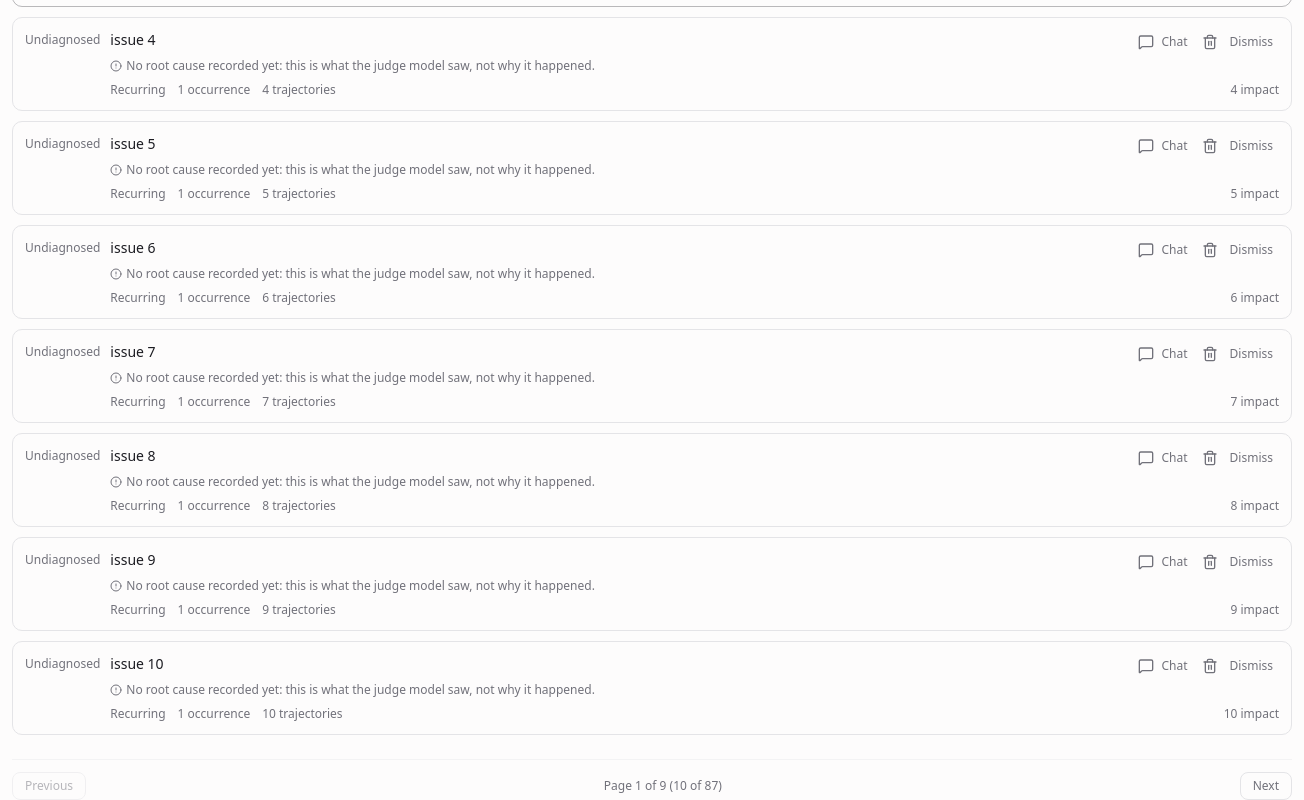
Test: the insights list's paging › keeps the way back when a page comes back empty
The width and height of the screenshot is (1304, 800).
(page scrolled)
Click the button "Next" at [1266, 786], box [1240,772,1292,799]
(page scrolled)
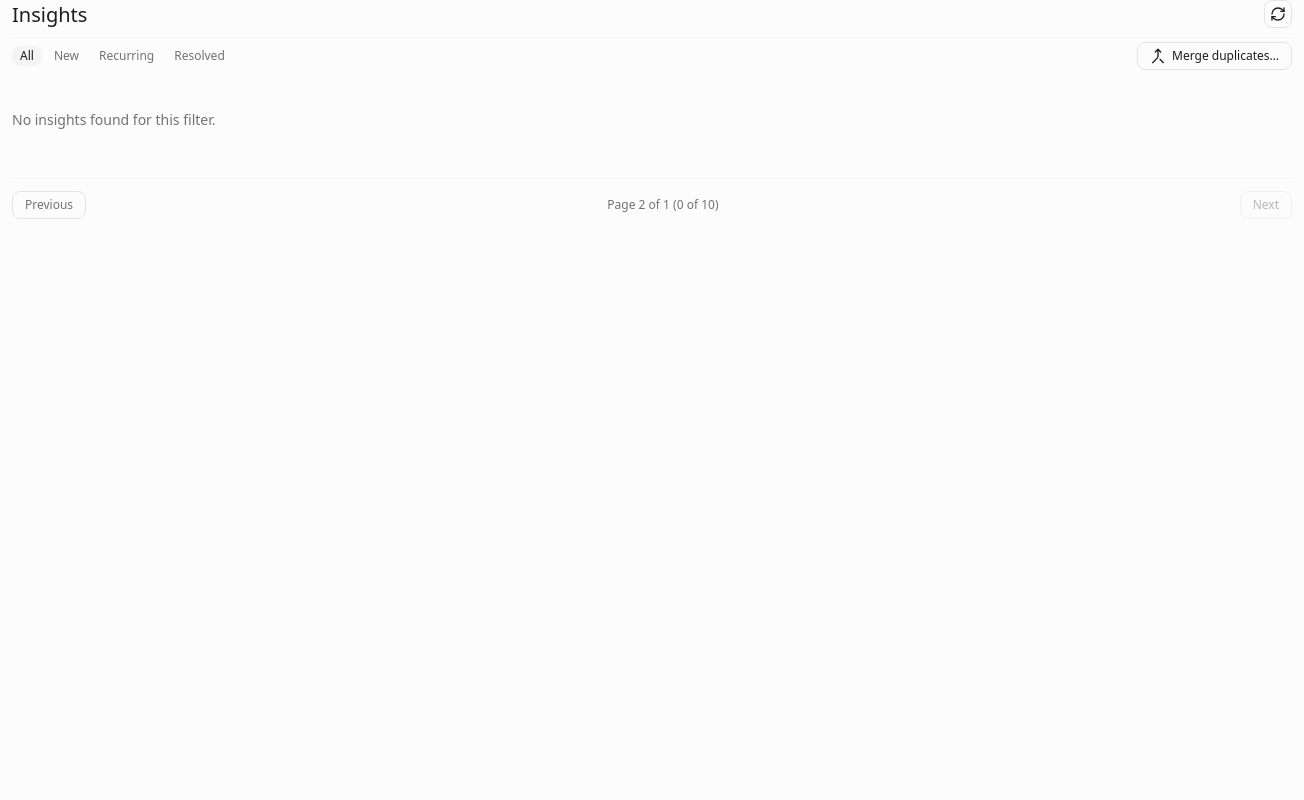
Expected: the text "No insights found for this filter." is shown, [12,110,216,129]
Expected: the button "Previous" is enabled
Click the button "Previous" at [49, 205], box [12,191,86,219]
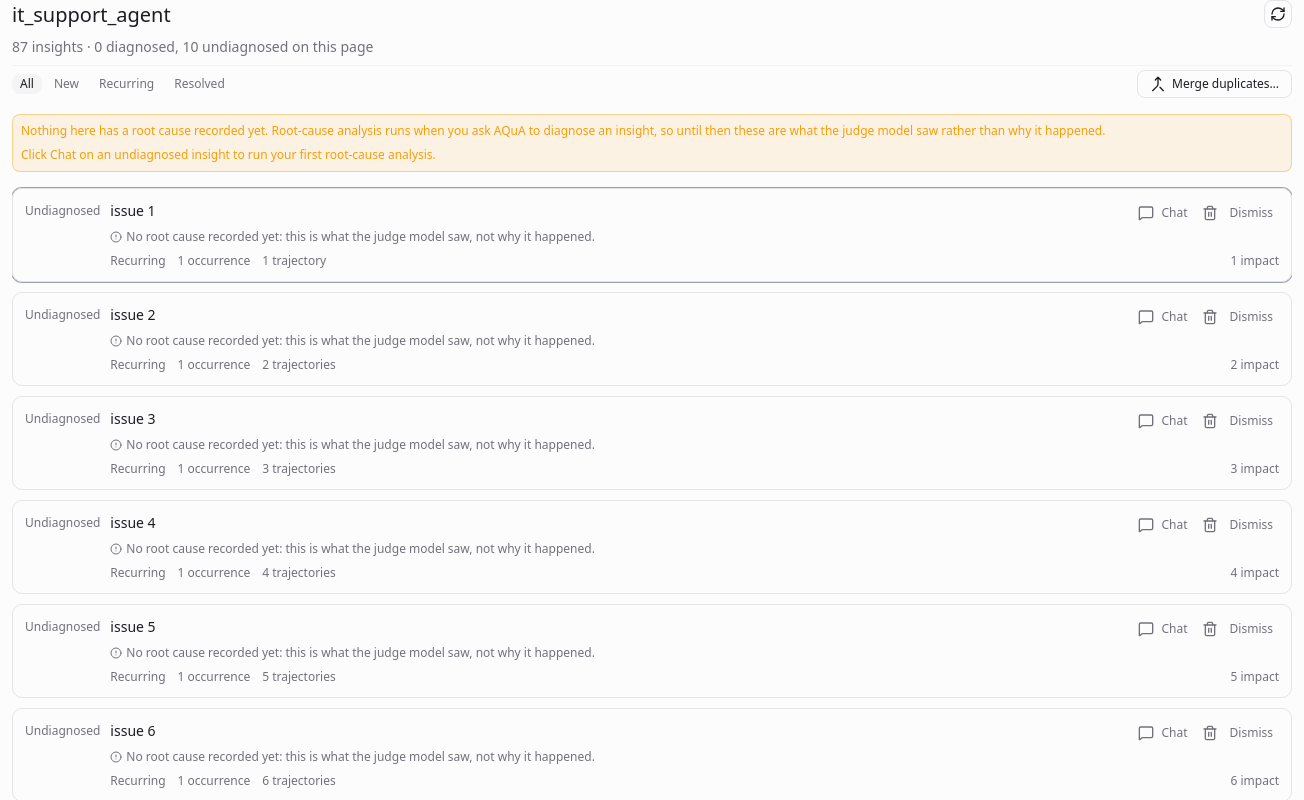
Expected: the text "issue 1" is shown, [110,201,156,221]
